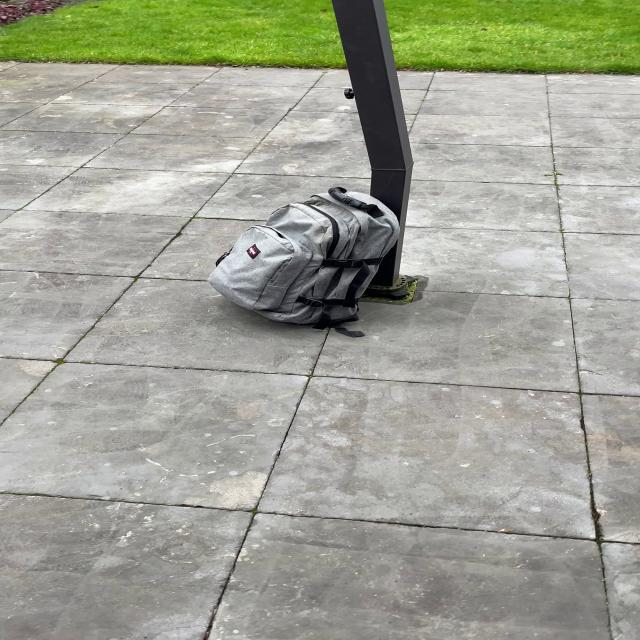backpack: (198, 184, 415, 330)
